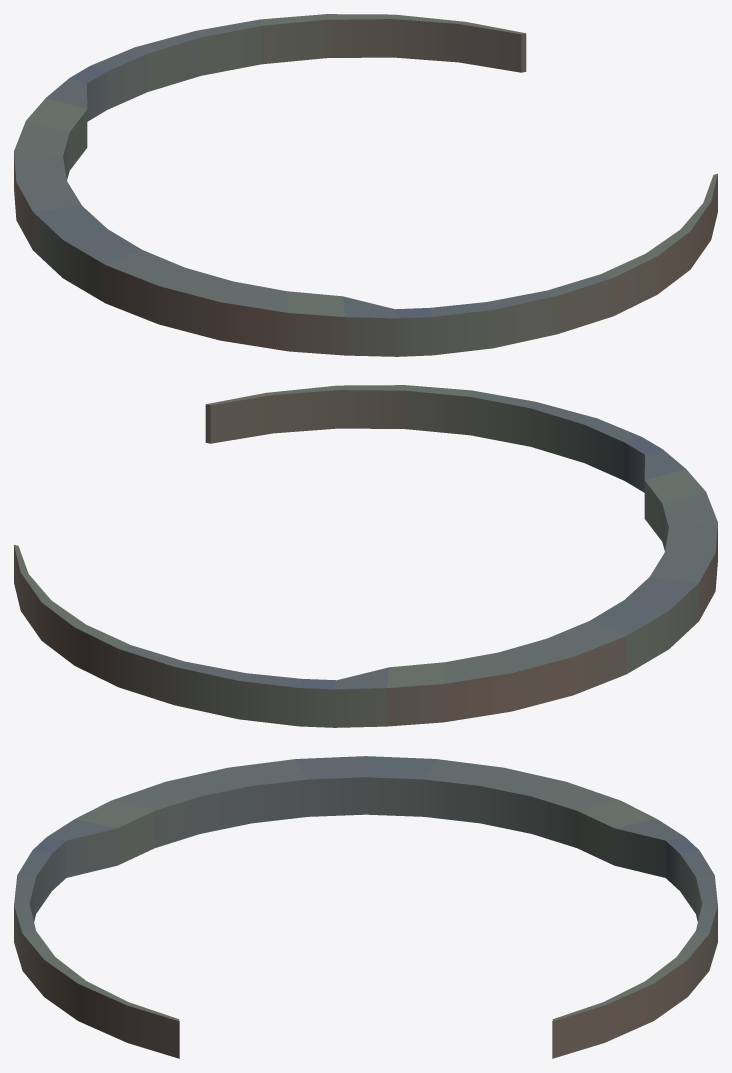
Rendered from small_Ring_teleport_02.fbx.
3 renders of one model, top to bottom at view 1: azimuth 30°, elevation 25°; view 2: azimuth 150°, elevation 25°; view 3: azimuth 270°, elevation 25°, orthographic. The views are drawn at different scales.
Parts seen in each view (by area): view 1: Ring_teleport; view 2: Ring_teleport; view 3: Ring_teleport.
Boxes of the visible parts, x1,y1,x2,y2 form: Ring_teleport: [14, 14, 717, 356]; Ring_teleport: [14, 385, 717, 727]; Ring_teleport: [14, 756, 717, 1058].
Bounding box in the file's own units: 43.49 × 2.86 × 48.75.
